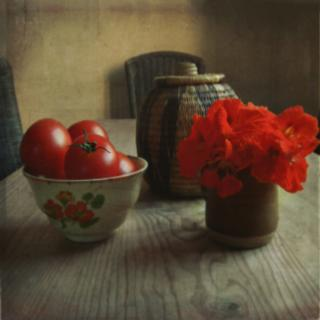tomato: (61, 129, 122, 181), (18, 118, 72, 174), (66, 120, 107, 136), (115, 150, 137, 177)
